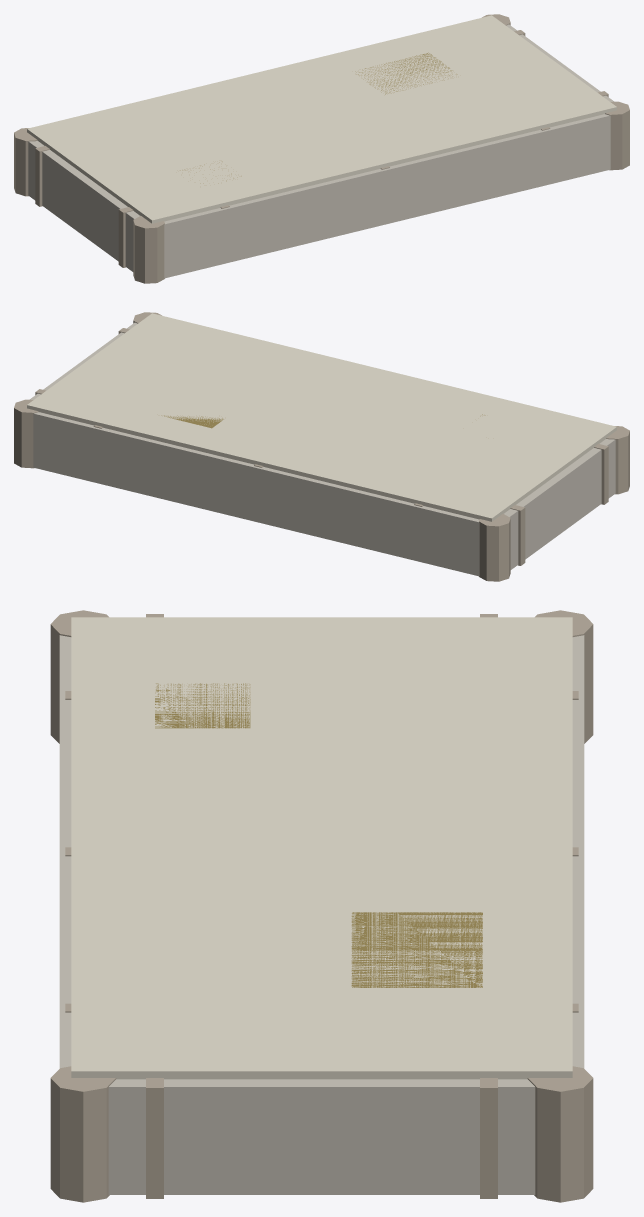
The model's file is mattress.glb.
3 renders of one model, top to bottom at view 1: azimuth 30°, elevation 25°; view 2: azimuth 150°, elevation 25°; view 3: azimuth 270°, elevation 25°, orthographic. The views are drawn at different scales.
Visible parts, largest first — view 1: mattress; view 2: mattress; view 3: mattress.
Part boxes in pixels (x1=…): mattress: x1=14, y1=14, x2=629, y2=283; mattress: x1=14, y1=312, x2=629, y2=581; mattress: x1=50, y1=610, x2=593, y2=1202.
Bounding box in the file's own units: 1.91 × 0.2175 × 0.91.
